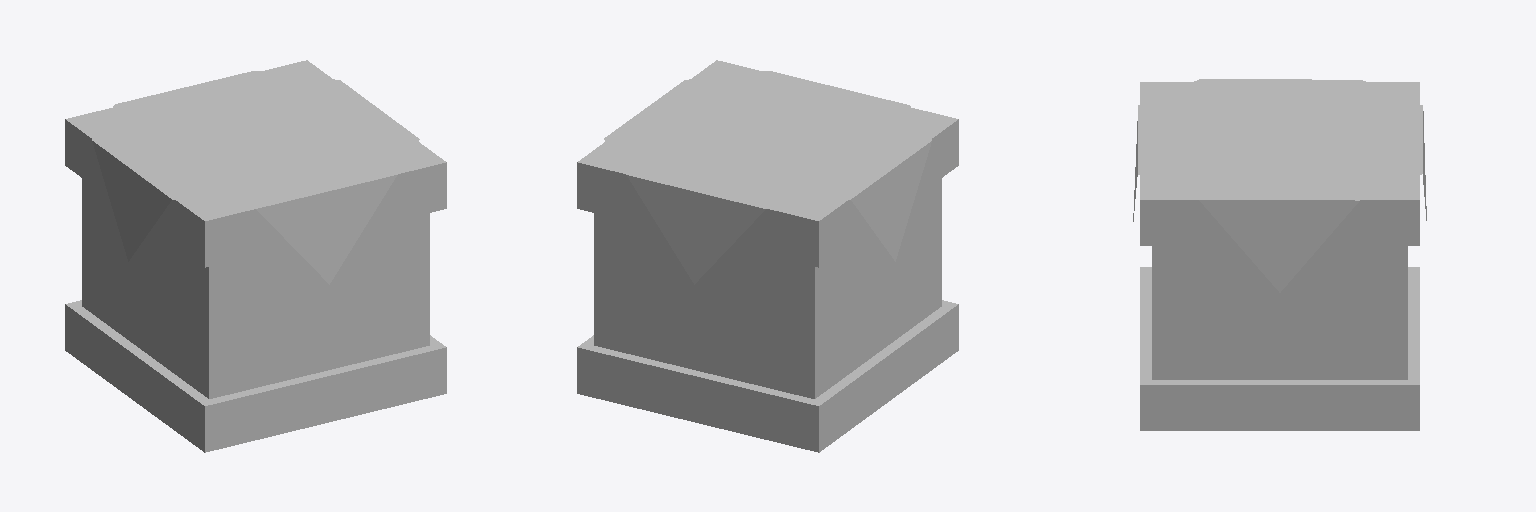
File: Pedestal.obj
3 renders of one model, left to right at view 1: azimuth 30°, elevation 25°; view 2: azimuth 150°, elevation 25°; view 3: azimuth 270°, elevation 25°, orthographic.
Parts seen in each view (by area): view 1: Box001; view 2: Box001; view 3: Box001.
Boxes of the visible parts, <box> form: Box001: <box>65,60,446,452</box>; Box001: <box>577,60,958,452</box>; Box001: <box>1133,79,1426,430</box>.
Size of the model in its own units: 17.3 by 15.06 by 17.3.